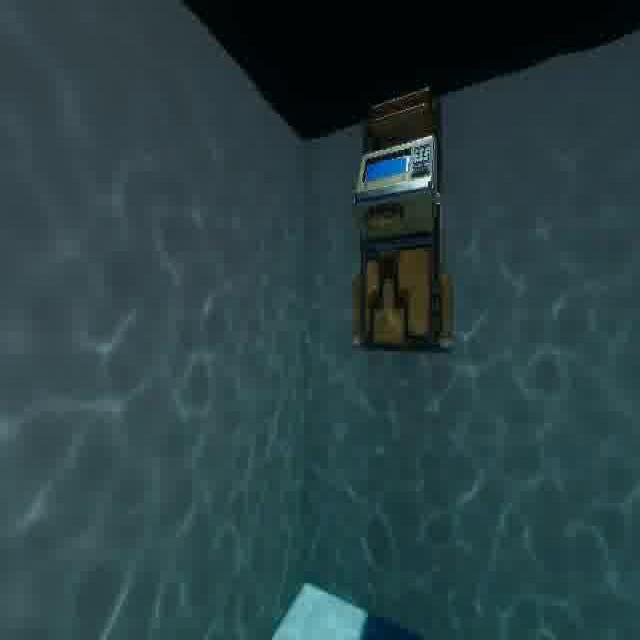Control Panel: (341, 73, 465, 365)
